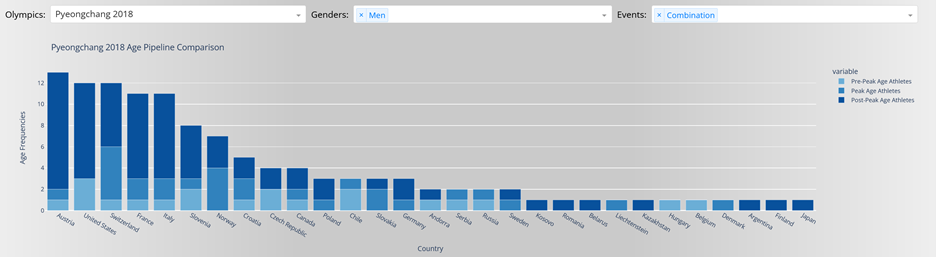

Layout of this report page (visuals, bound fields, positions):
{"tool":"tableau","page":{"name":"Dashboard 1","canvas":[1000,1000],"units":"permille","ordinal":0},"visuals":[{"type":"worksheet","title":"Sheet 1","mark":"Automatic","box":[2.1,4.2,888.5,991.5]},{"type":"filter","title":"Sheet 1","param":"[federated.146amrn0jlxjl911misc91clc58j].[none:Medal:ok]","box":[890.6,4.2,107.3,47.2]},{"type":"filter","title":"Sheet 1","param":"[federated.146amrn0jlxjl911misc91clc58j].[none:USOC Master Competition Set Name:","box":[890.6,51.4,107.3,150.1]},{"type":"legend","title":"Sheet 1","param":"[federated.146amrn0jlxjl911misc91clc58j].[cnt:Medal:qk]","box":[890.6,201.5,107.3,43]},{"type":"filter","title":"Sheet 1","param":"[federated.146amrn0jlxjl911misc91clc58j].[none:Event Gender:nk]","box":[890.6,244.4,107.3,64.2]},{"type":"filter","title":"Sheet 1","param":"[federated.146amrn0jlxjl911misc91clc58j].[none:Event Name Short:nk]","box":[890.6,308.6,107.3,121.4]}]}

Visuals, with their boxes on the dashboard's canvas, which has no fixed pixel size, in thousandths of its width and height (x1, y1, x2, y2). These are canvas units, not pixel positions in the 936x257 screenshot, which may show the page scaled, cropped or inside an application window:
"Sheet 1" worksheet: 2 4 891 996
"Sheet 1" filter: 891 4 998 51
"Sheet 1" filter: 891 51 998 202
"Sheet 1" legend: 891 202 998 244
"Sheet 1" filter: 891 244 998 309
"Sheet 1" filter: 891 309 998 430
